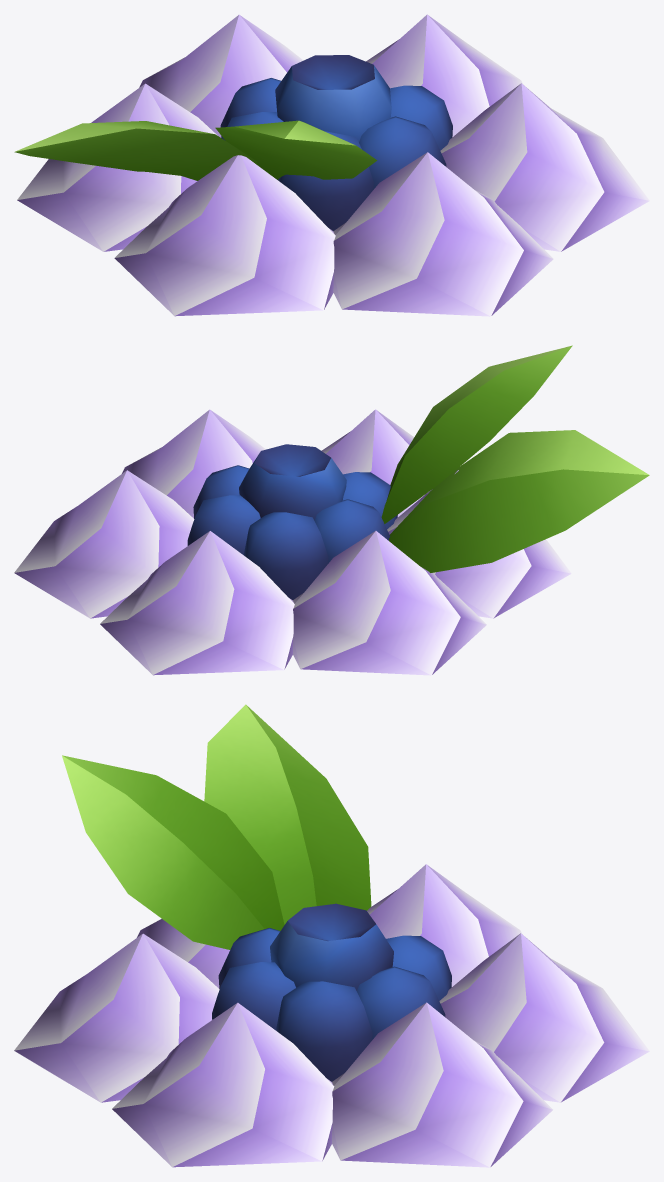
The model's file is m_BlueberryCake01_Deco.fbx.
3 renders of one model, top to bottom at view 1: azimuth 30°, elevation 25°; view 2: azimuth 150°, elevation 25°; view 3: azimuth 270°, elevation 25°, orthographic. The views are drawn at different scales.
Parts seen in each view (by area): view 1: m_BlueberryCake01_Deco; view 2: m_BlueberryCake01_Deco; view 3: m_BlueberryCake01_Deco.
Part boxes in pixels (x1,y1,x2,y2): m_BlueberryCake01_Deco: (14,14,649,316); m_BlueberryCake01_Deco: (14,345,649,675); m_BlueberryCake01_Deco: (14,704,649,1167).
Size of the model in its own units: 11.9 by 3.88 by 10.87.
